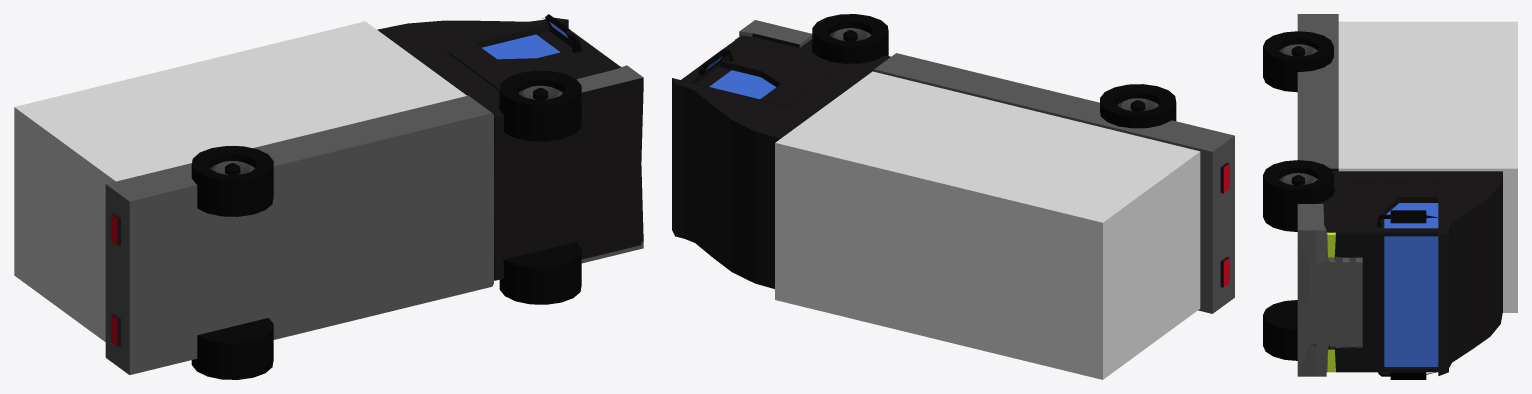
File: black_truck.gltf
3 renders of one model, left to right at view 1: azimuth 30°, elevation 25°; view 2: azimuth 150°, elevation 25°; view 3: azimuth 270°, elevation 25°, orthographic. The views are drawn at different scales.
Visible parts, largest first — view 1: Truck1; view 2: Truck1; view 3: Truck1.
Boxes of the visible parts, left/top/right/bottom form: Truck1: left=14, top=14, right=643, bottom=379; Truck1: left=672, top=14, right=1234, bottom=379; Truck1: left=1263, top=14, right=1517, bottom=379.
Bounding box in the file's own units: 2.53 × 0.921 × 1.24.
